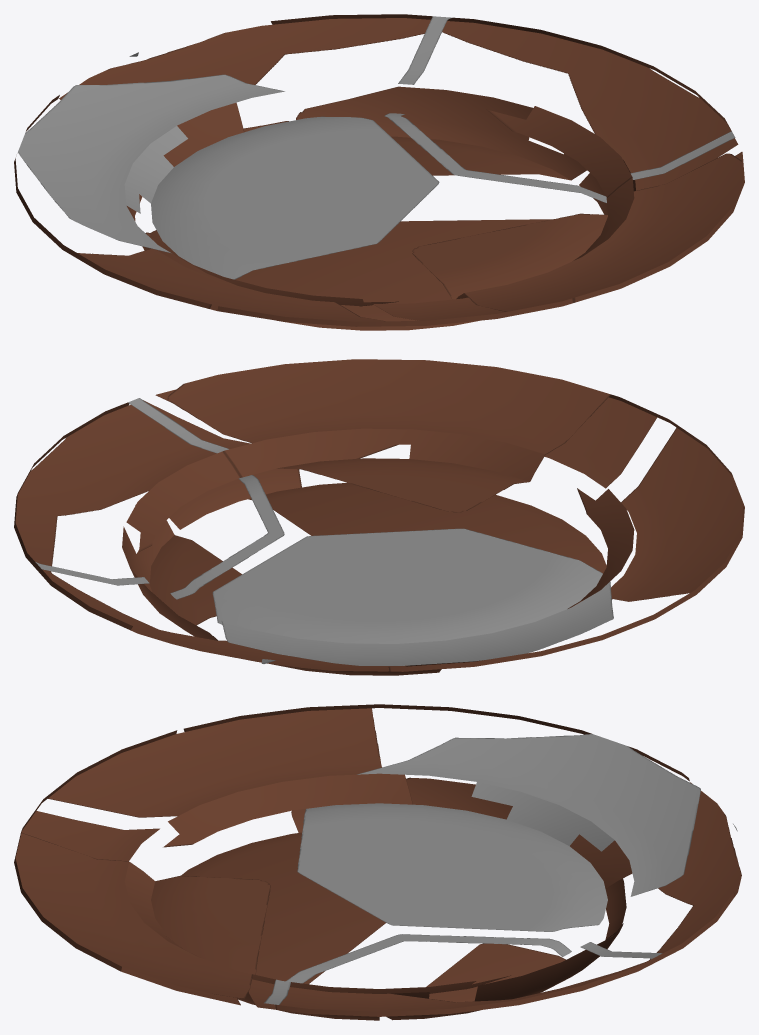
File: DirtyPlate.fbx
3 renders of one model, top to bottom at view 1: azimuth 30°, elevation 25°; view 2: azimuth 150°, elevation 25°; view 3: azimuth 270°, elevation 25°, orthographic.
Visible parts, largest first — view 1: DiryPlate; view 2: DiryPlate; view 3: DiryPlate.
Part boxes in pixels (x1=…): DiryPlate: x1=14, y1=14, x2=744, y2=330; DiryPlate: x1=14, y1=359, x2=744, y2=675; DiryPlate: x1=14, y1=704, x2=741, y2=1020.
Size of the model in its own units: 431 by 42.63 by 431.
